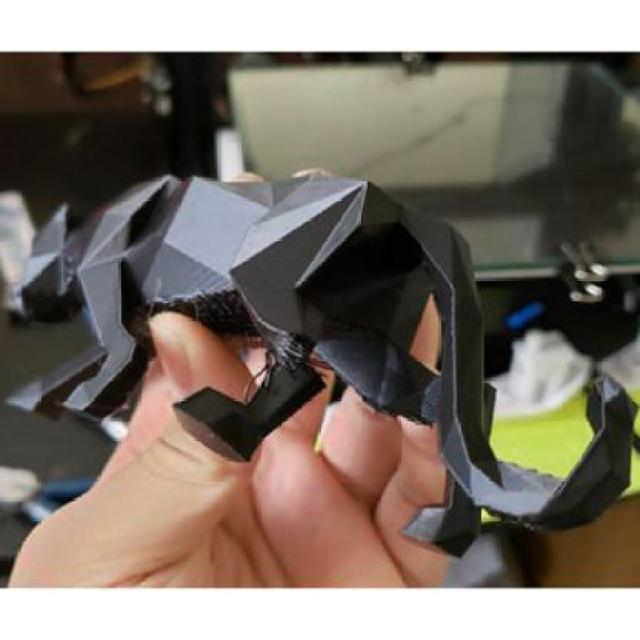spaghetti: (242, 326, 331, 397)
